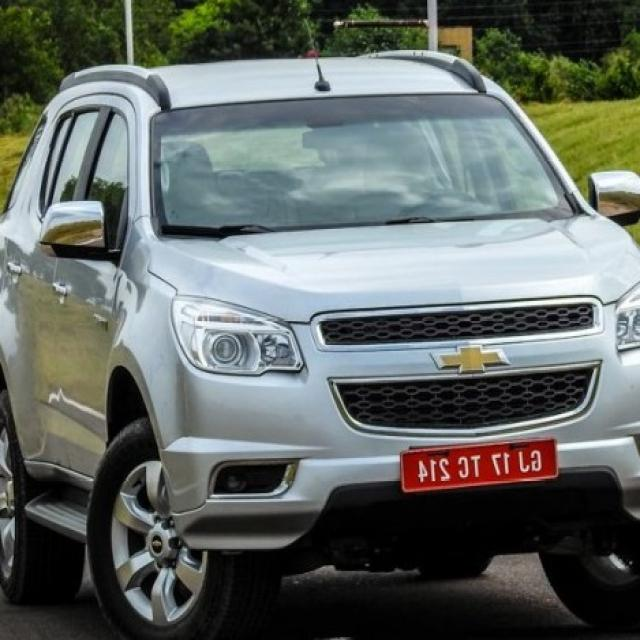number-plate: (386, 430, 551, 494)
